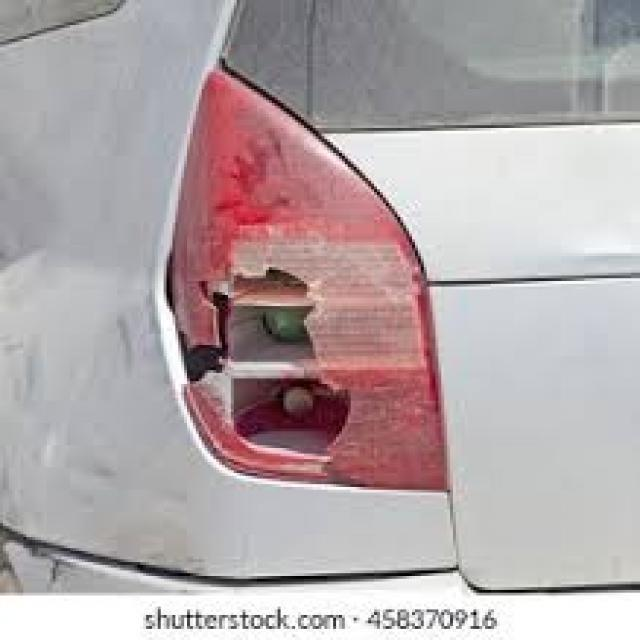damaged-tail-light: (182, 54, 450, 492)
